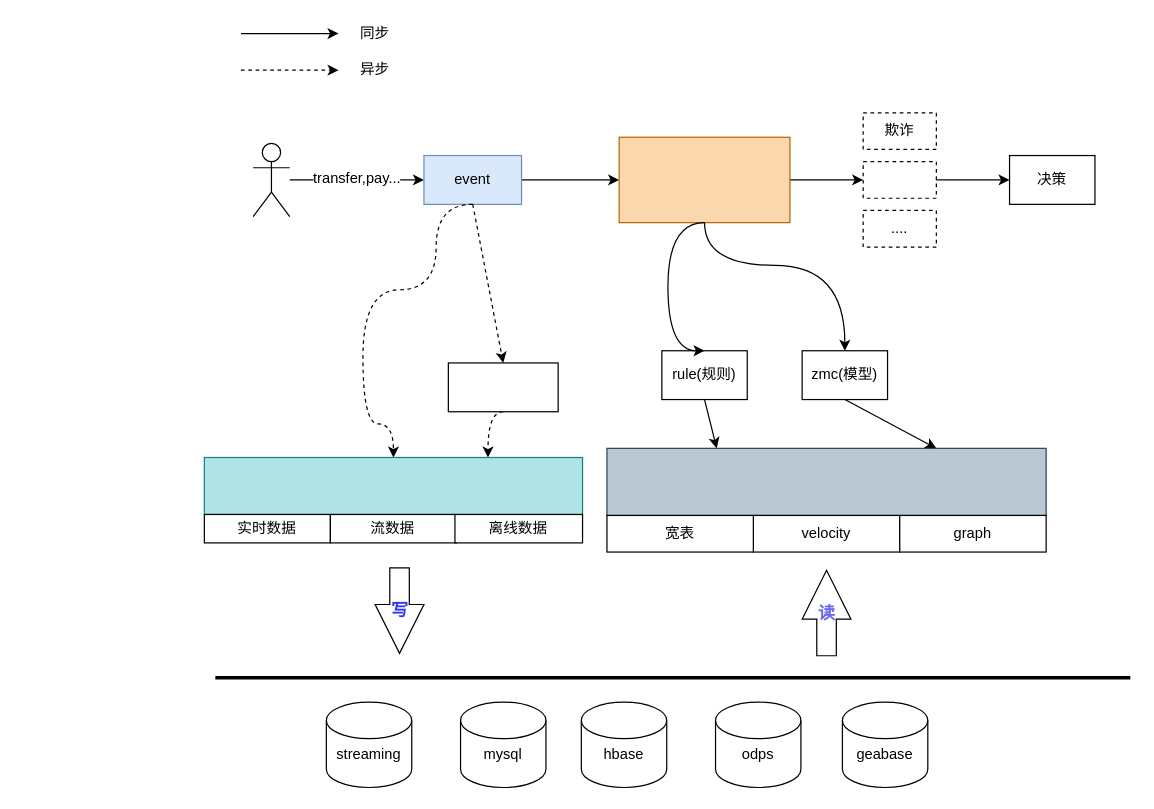
The diagram is 1154 pixels wide and 809 high, and some of its shapes have lost their labels. The shapes that lost their labels are listed below. From the top down, each one's centre as x and y in pixels, then its label:
At [271,179]: "User".
At [704,179]: "uct".
At [899,179]: "盗用".
At [502,387]: "uctproc(异步决策)".
At [393,485]: "sdp".
At [826,481]: "Feature Platform".
